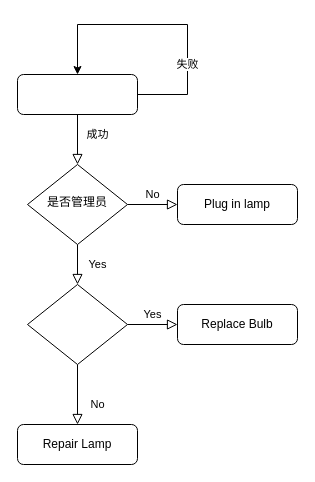
Some shapes in this 315 by 482 pixel diagram are drawn without their labels. The shapes that lost their labels are listed below. From the top down, each one's centre as x and y in pixels, then its label:
the point at 77,94: 用户
the point at 77,324: Bulb burned out?
